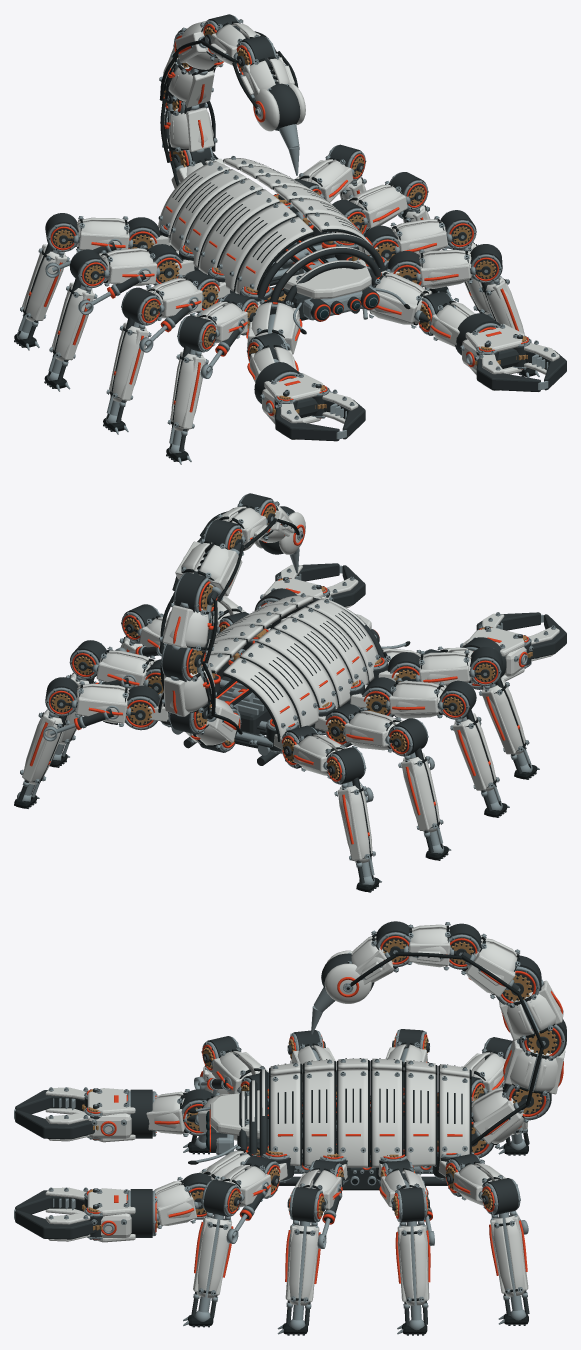
File: telson-sc8.glb
3 renders of one model, top to bottom at view 1: azimuth 30°, elevation 25°; view 2: azimuth 150°, elevation 25°; view 3: azimuth 270°, elevation 25°, orthographic.
Visible parts, largest first — view 1: SC_head, SC_armor_L_4, SC_armor_L_5, SC_leg_L1_tibia, SC_leg_L0_tibia, SC_armor_L_3, SC_leg_L2_tibia, SC_leg_L3_tibia, SC_tail_joint_1, SC_armor_L_2, SC_armor_L_1, SC_jaw_L_a (+59 smaller); view 2: SC_tail_joint_2, SC_tail_joint_3, SC_armor_L_1, SC_leg_L3_tibia, SC_leg_L2_tibia, SC_armor_L_0, SC_leg_L1_tibia, SC_armor_L_2, SC_armor_L_3, SC_leg_L0_tibia, SC_leg_R3_tibia, SC_leg_R3_femur (+42 smaller); view 3: SC_armor_R_3, SC_armor_R_1, SC_armor_R_2, SC_armor_R_4, SC_armor_R_5, SC_armor_R_0, SC_leg_R3_tibia, SC_leg_R1_tibia, SC_leg_R0_tibia, SC_tail_joint_3, SC_leg_R2_tibia, SC_head (+56 smaller).
Boxes of the visible parts, x1,y1,x2,y2 form: SC_head: [282, 259, 410, 334]; SC_armor_L_4: [217, 202, 296, 291]; SC_armor_L_5: [235, 216, 314, 294]; SC_leg_L1_tibia: [106, 287, 161, 422]; SC_leg_L0_tibia: [169, 315, 216, 451]; SC_armor_L_3: [198, 189, 279, 274]; SC_leg_L2_tibia: [48, 249, 107, 380]; SC_leg_L3_tibia: [18, 213, 78, 339]; SC_tail_joint_1: [160, 98, 215, 167]; SC_armor_L_2: [184, 178, 263, 267]; SC_armor_L_1: [169, 169, 246, 250]; SC_jaw_L_a: [272, 392, 343, 441]; SC_tail_joint_2: [159, 591, 217, 681]; SC_tail_joint_3: [172, 535, 244, 612]; SC_armor_L_1: [240, 642, 318, 727]; SC_leg_L3_tibia: [326, 747, 374, 883]; SC_leg_L2_tibia: [387, 718, 442, 852]; SC_armor_L_0: [222, 657, 299, 741]; SC_leg_L1_tibia: [439, 680, 501, 811]; SC_armor_L_2: [257, 628, 338, 708]; SC_armor_L_3: [273, 617, 352, 706]; SC_leg_L0_tibia: [470, 647, 531, 774]; SC_leg_R3_tibia: [18, 677, 78, 801]; SC_leg_R3_femur: [66, 684, 159, 730]; SC_armor_R_3: [336, 1069, 369, 1167]; SC_armor_R_1: [404, 1071, 437, 1166]; SC_armor_R_2: [370, 1069, 403, 1167]; SC_armor_R_4: [302, 1070, 335, 1166]; SC_armor_R_5: [269, 1073, 302, 1165]; SC_armor_R_0: [438, 1074, 471, 1164]; SC_leg_R3_tibia: [482, 1178, 529, 1315]; SC_leg_R1_tibia: [285, 1187, 325, 1325]; SC_leg_R0_tibia: [191, 1179, 240, 1318]; SC_tail_joint_3: [461, 936, 541, 1005]; SC_leg_R2_tibia: [392, 1187, 429, 1325]; SC_head: [188, 1090, 268, 1164].
Size of the model in its own units: 5.5 by 4.06 by 6.53.
